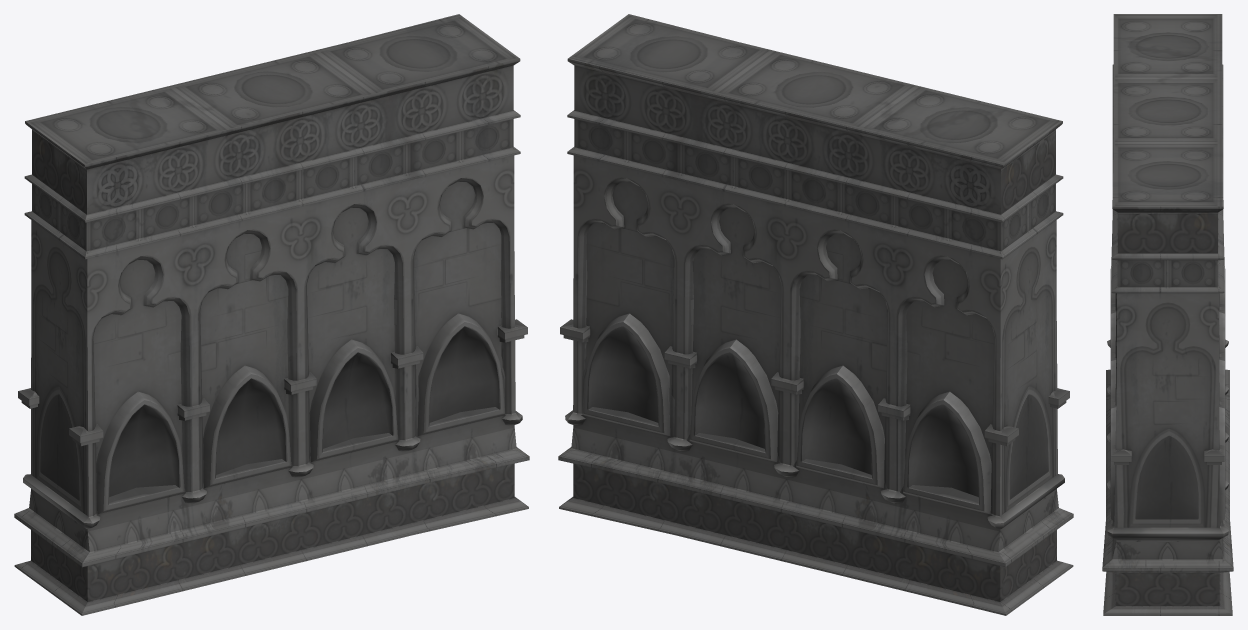
Rendered from Ornate Wall.FBX.
3 renders of one model, left to right at view 1: azimuth 30°, elevation 25°; view 2: azimuth 150°, elevation 25°; view 3: azimuth 270°, elevation 25°, orthographic. The views are drawn at different scales.
Parts seen in each view (by area): view 1: Ornate Wall; view 2: Ornate Wall; view 3: Ornate Wall.
Part boxes in pixels (x1,y1,x2,y2): Ornate Wall: (14, 14, 529, 615); Ornate Wall: (558, 14, 1073, 615); Ornate Wall: (1102, 14, 1233, 615).
Bounding box in the file's own units: 42.02 × 40.05 × 11.69.
1 material, 1 textured.
